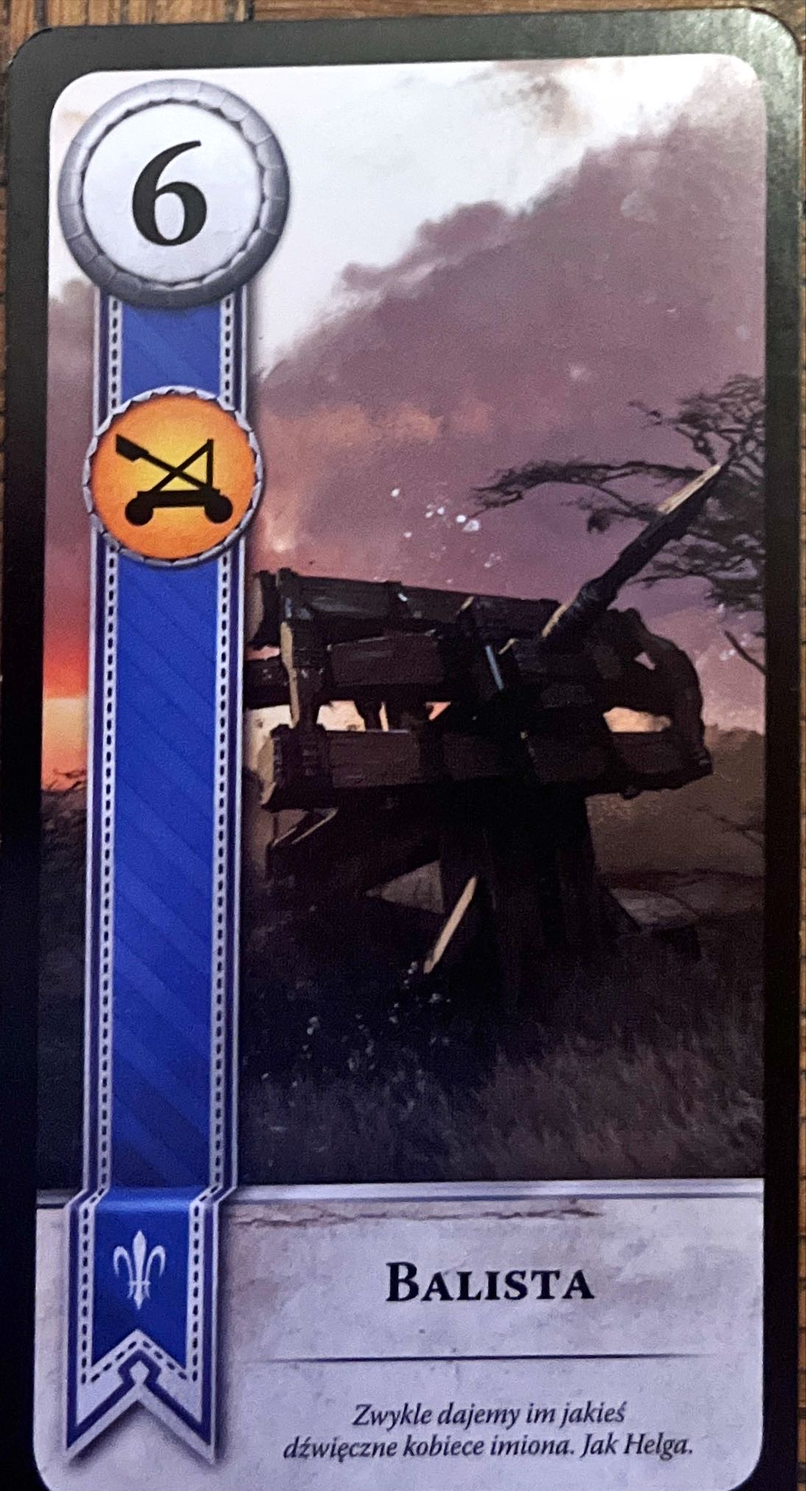6: (58, 78, 289, 307)
katapulta: (80, 388, 265, 568)
